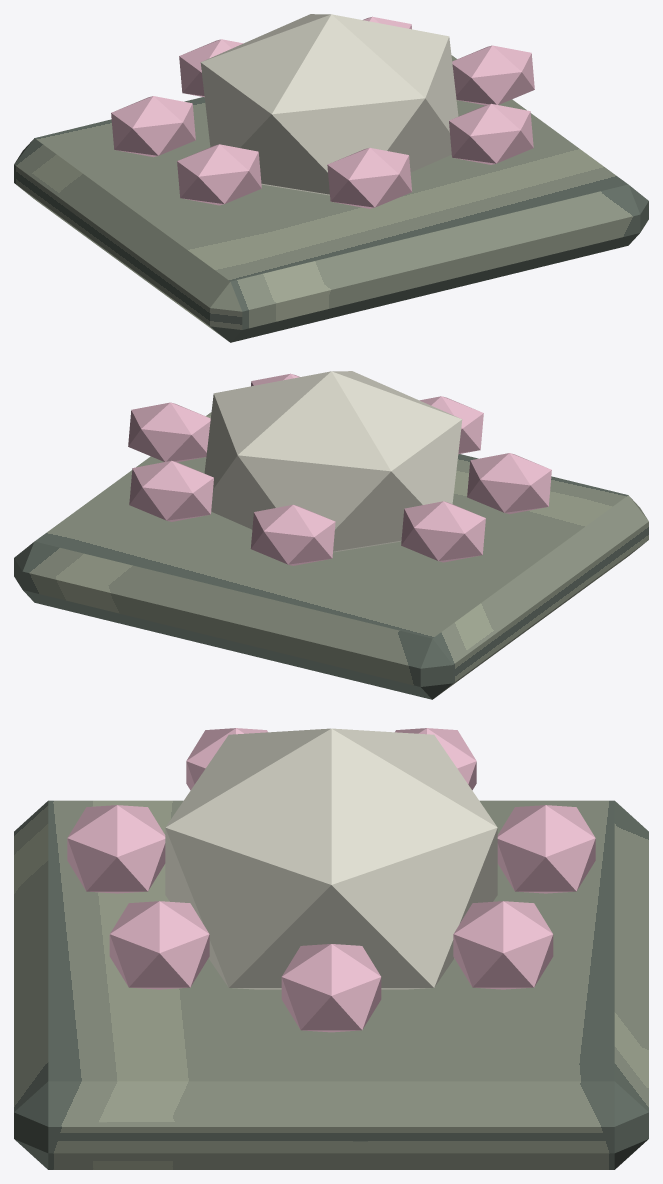
File: stone_rose_celebration.glb
3 views of the same model, one above another, from view 1: azimuth 30°, elevation 25°; view 2: azimuth 150°, elevation 25°; view 3: azimuth 270°, elevation 25° (orthographic). The views are drawn at different scales.
Visible parts, largest first — view 1: Rose_plinth.002, Stone_rose.002, Blossom.007, Blossom.008, Blossom.006, Blossom.009, Blossom.003, Blossom.005; view 2: Rose_plinth.002, Stone_rose.002, Blossom.006, Blossom.005, Blossom.004, Blossom.007, Blossom.003, Blossom.008; view 3: Rose_plinth.002, Stone_rose.002, Blossom.004, Blossom.009, Blossom.003, Blossom.005, Blossom.008, Blossom.006, Blossom.007.
Part boxes in pixels (x1,y1,x2,y2): Rose_plinth.002: (14, 55, 648, 342); Stone_rose.002: (200, 14, 458, 195); Blossom.007: (177, 144, 261, 205); Blossom.008: (327, 147, 412, 208); Blossom.006: (111, 96, 195, 157); Blossom.009: (449, 103, 533, 164); Blossom.003: (452, 45, 534, 105); Blossom.005: (179, 39, 243, 97); Rose_plinth.002: (14, 412, 648, 699); Stone_rose.002: (204, 371, 462, 552); Blossom.006: (401, 501, 485, 562); Blossom.005: (250, 504, 335, 565); Blossom.004: (129, 460, 213, 521); Blossom.007: (467, 453, 551, 514); Blossom.003: (128, 402, 210, 462); Blossom.008: (419, 396, 483, 454); Rose_plinth.002: (14, 800, 648, 1169); Stone_rose.002: (165, 728, 497, 989); Blossom.004: (453, 901, 553, 989); Blossom.009: (109, 901, 209, 989); Blossom.003: (281, 944, 381, 1032); Blossom.005: (497, 805, 595, 893); Blossom.008: (67, 805, 165, 893); Blossom.006: (395, 728, 476, 790); Blossom.007: (186, 728, 267, 790).
Bounding box in the file's own units: 1.5 × 0.68 × 1.3.
Materials: 3 (1 with a texture image).
